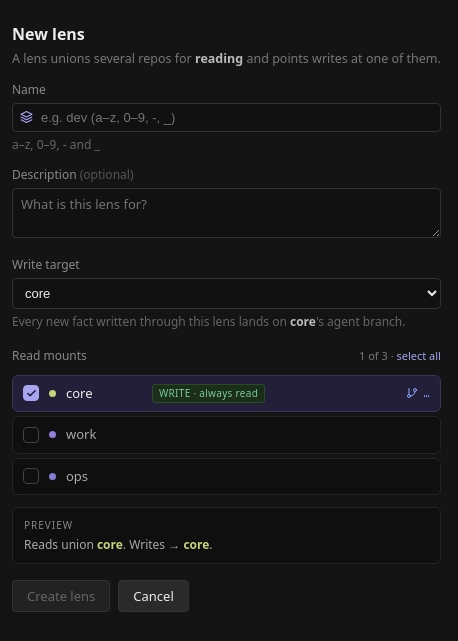
CreateLensForm › select all toggles every read repo on and off
Step 1. Click the text with test id "lens-select-all" → (419, 355), box top-left (396, 348), bottom-right (441, 362)
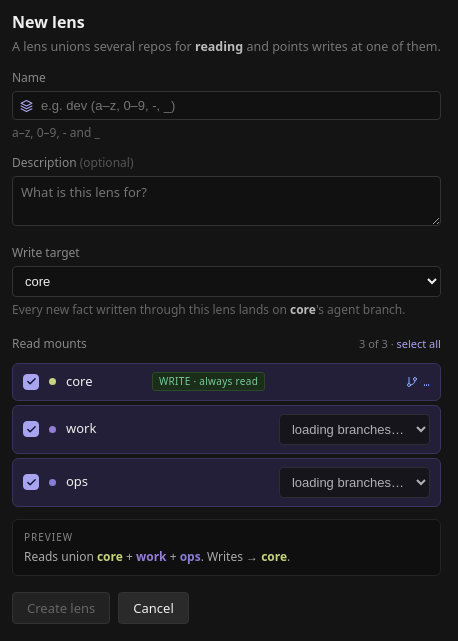
Expected: the dropdown with test id "lens-branch-work" is shown, top-left (279, 414), bottom-right (430, 444)
Expected: the dropdown with test id "lens-branch-ops" is shown, top-left (279, 466), bottom-right (430, 498)
Step 2. Click the text with test id "lens-select-all" → (419, 344), box top-left (396, 336), bottom-right (441, 351)
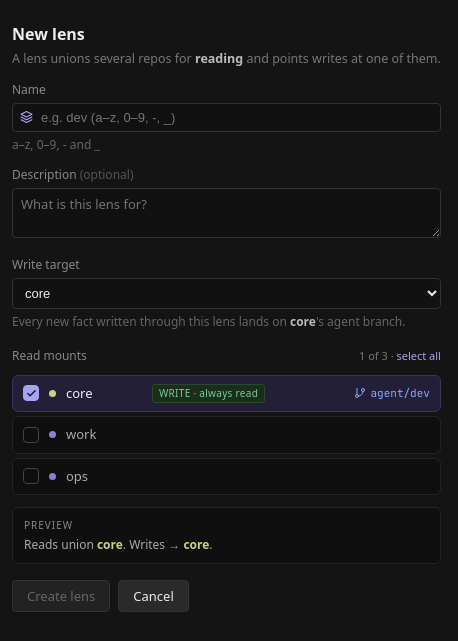
Expected: the dropdown with test id "lens-branch-work" is gone
Expected: the dropdown with test id "lens-branch-ops" is gone
